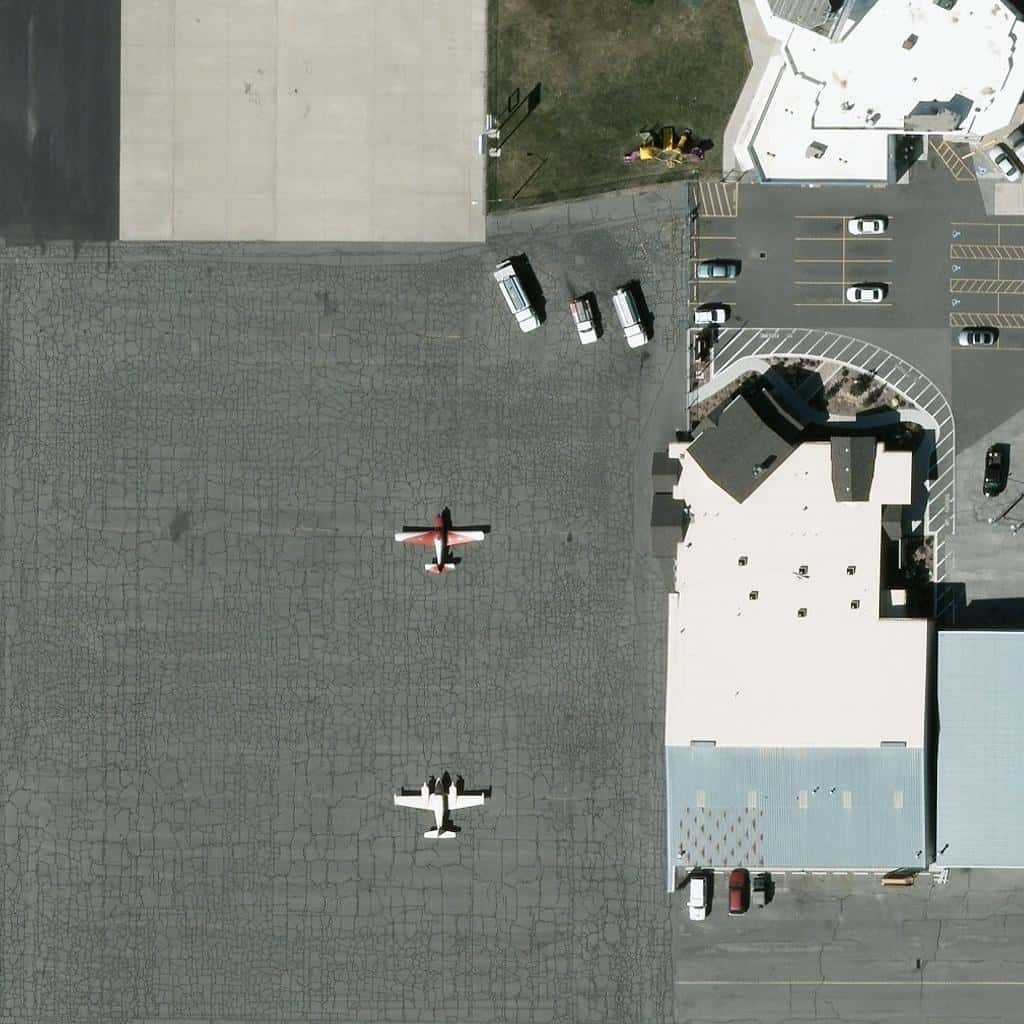plane: (392, 777, 489, 840), (389, 515, 486, 578)
